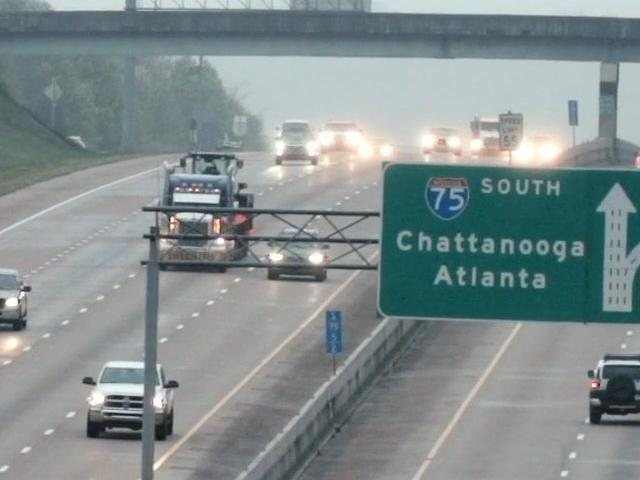car: (80, 357, 178, 442), (581, 348, 640, 428), (267, 232, 328, 277), (0, 265, 31, 335), (277, 137, 315, 166), (426, 131, 462, 159)
truck: (140, 145, 258, 272), (470, 113, 523, 162)
